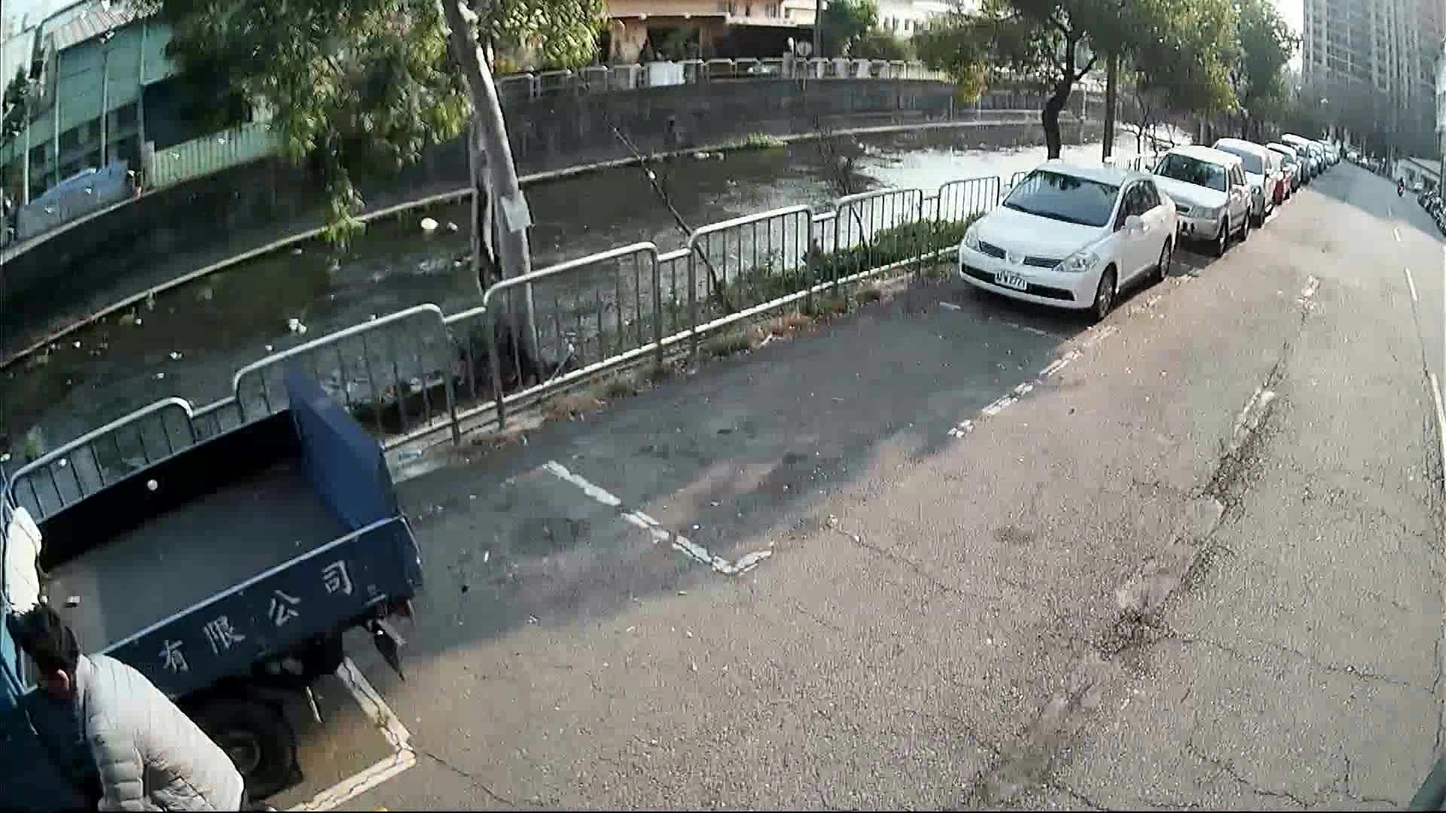person: (0, 594, 249, 812)
